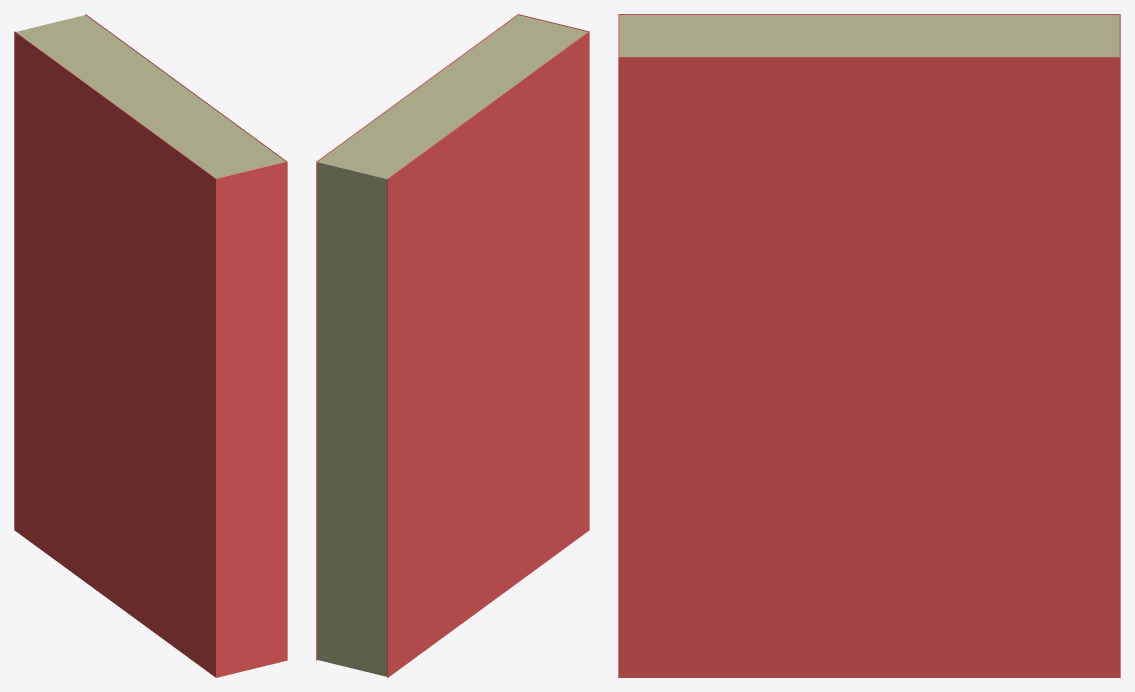
The model's file is book.fbx.
3 views of the same model, side by side, from view 1: azimuth 30°, elevation 25°; view 2: azimuth 150°, elevation 25°; view 3: azimuth 270°, elevation 25° (orthographic). The views are drawn at different scales.
Parts seen in each view (by area): view 1: Book0; view 2: Book0; view 3: Book0.
Part boxes in pixels (x1,y1,x2,y2): Book0: (14,14,287,677); Book0: (316,14,589,677); Book0: (618,14,1120,677).
Size of the model in its own units: 4.5 by 30 by 22.
